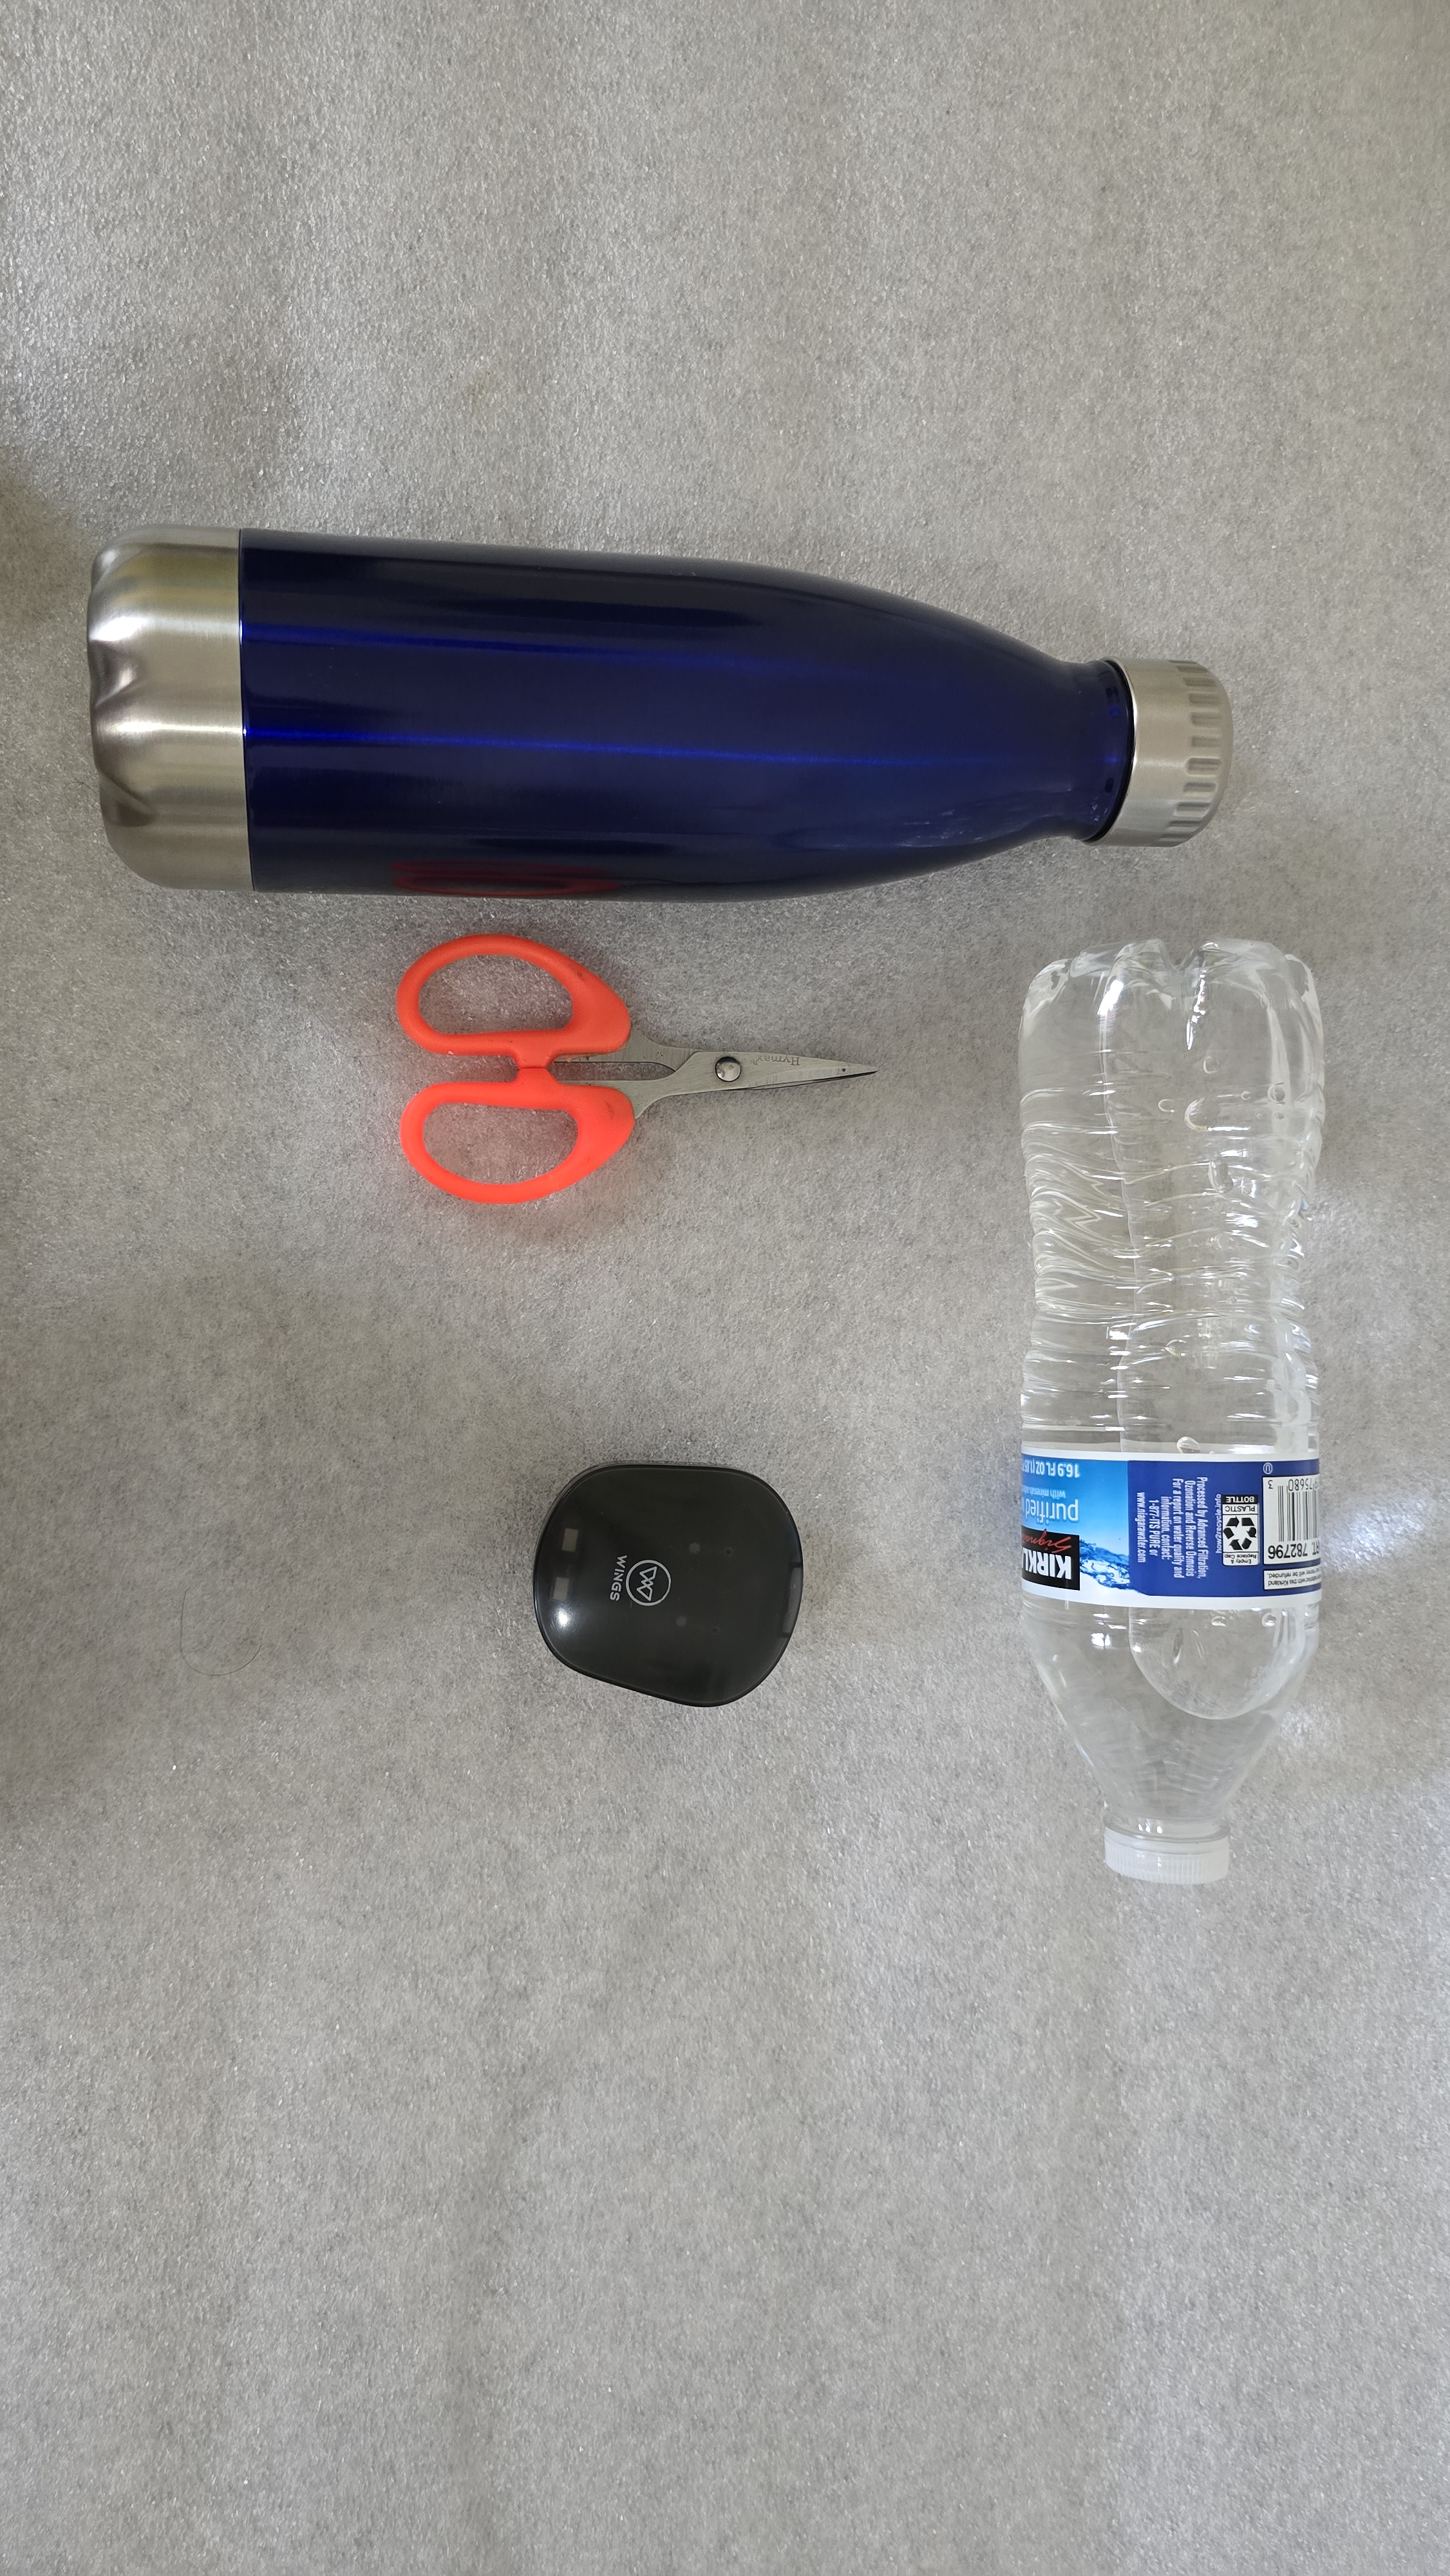bottle: (60, 488, 1259, 929), (988, 920, 1392, 1916)
